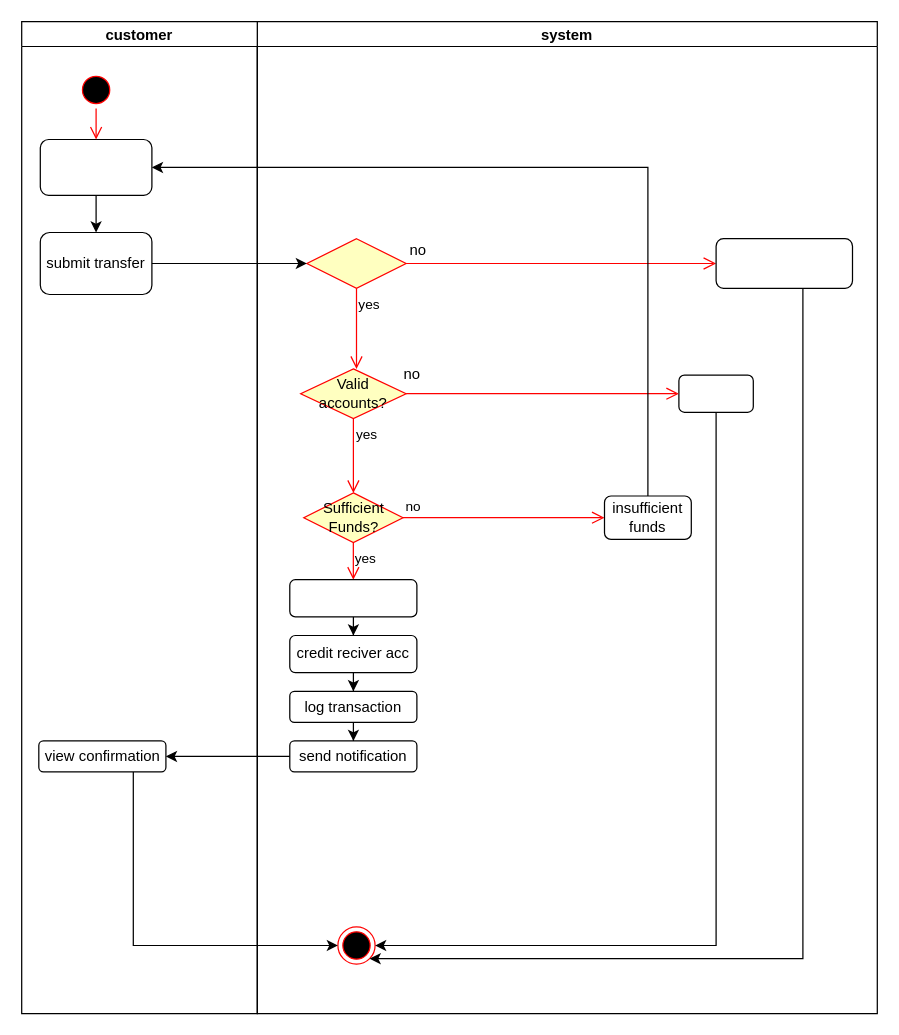
This 899x1035 diagram has some shape labels left out. The shapes that lost their labels are listed below. From the top down, each one's box as (x1, y1, x2, y2) in pixels, then its label:
(39, 138, 152, 195): fill transfer form
(306, 237, 406, 288): Is Valid ?
(715, 237, 852, 288): redirect to login
(678, 374, 753, 412): show error
(289, 578, 417, 617): debit sender acc
